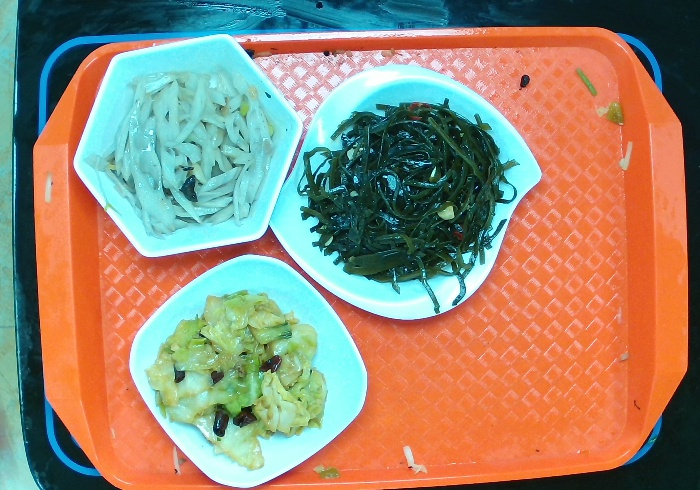RJxy-Liu_Jiao_Wan: (73, 25, 300, 257)
RJxy-Shuang_Jiao_Pan: (271, 64, 544, 323)
RJxy-Si_Fang_Wan: (126, 249, 371, 490)
